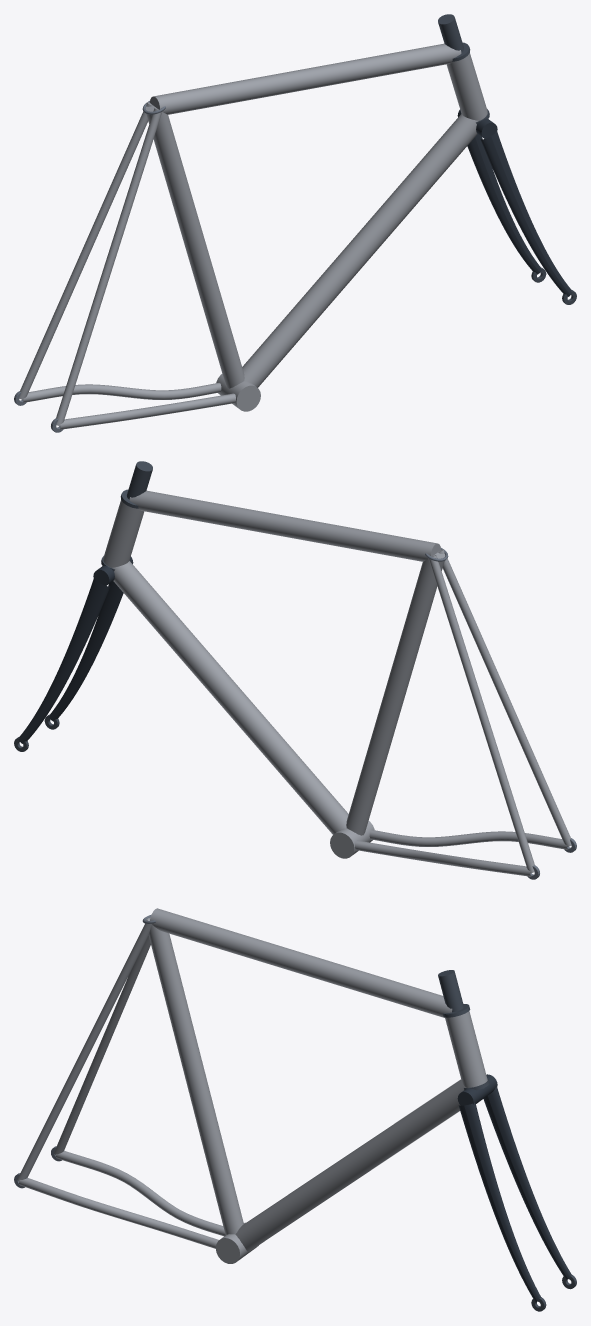
File: cinelli-vigorelli-rainbow-m.glb
3 views of the same model, one above another, from view 1: azimuth 30°, elevation 25°; view 2: azimuth 150°, elevation 25°; view 3: azimuth 330°, elevation 25° (orthographic).
Visible parts, largest first — view 1: paint_down, paint_top, paint_seat, paint_seatstay_1, paint_seatstay_-1, fork_blade_1, fork_blade_-1, paint_chainstay_-1, paint_chainstay_1, paint_head, paint_bottom_bracket, fork_steerer; view 2: paint_down, paint_top, paint_seat, paint_seatstay_-1, paint_seatstay_1, fork_blade_-1, fork_blade_1, paint_chainstay_1, paint_chainstay_-1, paint_head, paint_bottom_bracket, fork_steerer; view 3: paint_down, paint_seat, paint_top, fork_blade_1, paint_seatstay_1, fork_blade_-1, paint_chainstay_1, paint_seatstay_-1, paint_head, paint_chainstay_-1, paint_bottom_bracket, fork_steerer (+1 smaller).
Boxes of the visible parts, x1=… form: paint_down: x1=242, y1=114, x2=478, y2=387; paint_top: x1=150, y1=43, x2=461, y2=114; paint_seat: x1=145, y1=105, x2=244, y2=388; paint_seatstay_1: x1=56, y1=108, x2=162, y2=426; paint_seatstay_-1: x1=19, y1=102, x2=152, y2=399; fork_blade_1: x1=480, y1=131, x2=572, y2=296; fork_blade_-1: x1=467, y1=134, x2=541, y2=274; paint_chainstay_-1: x1=23, y1=383, x2=221, y2=402; paint_chainstay_1: x1=59, y1=393, x2=235, y2=429; paint_head: x1=446, y1=53, x2=487, y2=120; paint_bottom_bracket: x1=216, y1=374, x2=260, y2=411; fork_steerer: x1=438, y1=14, x2=463, y2=52; paint_down: x1=112, y1=561, x2=348, y2=834; paint_top: x1=129, y1=490, x2=440, y2=561; paint_seat: x1=346, y1=552, x2=445, y2=835; paint_seatstay_-1: x1=428, y1=555, x2=534, y2=873; paint_seatstay_1: x1=438, y1=549, x2=571, y2=846; fork_blade_-1: x1=18, y1=578, x2=110, y2=743; fork_blade_1: x1=49, y1=581, x2=123, y2=721; paint_chainstay_1: x1=369, y1=830, x2=567, y2=849; paint_chainstay_-1: x1=355, y1=840, x2=531, y2=876; paint_head: x1=103, y1=500, x2=144, y2=567; paint_bottom_bracket: x1=330, y1=821, x2=374, y2=858; fork_steerer: x1=127, y1=461, x2=152, y2=499; paint_down: x1=235, y1=1079, x2=466, y2=1251; paint_seat: x1=145, y1=917, x2=243, y2=1234; paint_top: x1=150, y1=908, x2=452, y2=1017; fork_blade_1: x1=458, y1=1102, x2=541, y2=1301; paint_seatstay_1: x1=17, y1=918, x2=152, y2=1181; fork_blade_-1: x1=483, y1=1087, x2=571, y2=1279; paint_chainstay_1: x1=19, y1=1178, x2=218, y2=1248; paint_seatstay_-1: x1=54, y1=936, x2=150, y2=1154; paint_head: x1=445, y1=1011, x2=487, y2=1087; paint_chainstay_-1: x1=55, y1=1151, x2=225, y2=1236; paint_bottom_bracket: x1=215, y1=1222, x2=258, y2=1263; fork_steerer: x1=438, y1=970, x2=484, y2=1088.
Size of the model in its own units: 0.9931 by 0.6043 by 0.1405.
